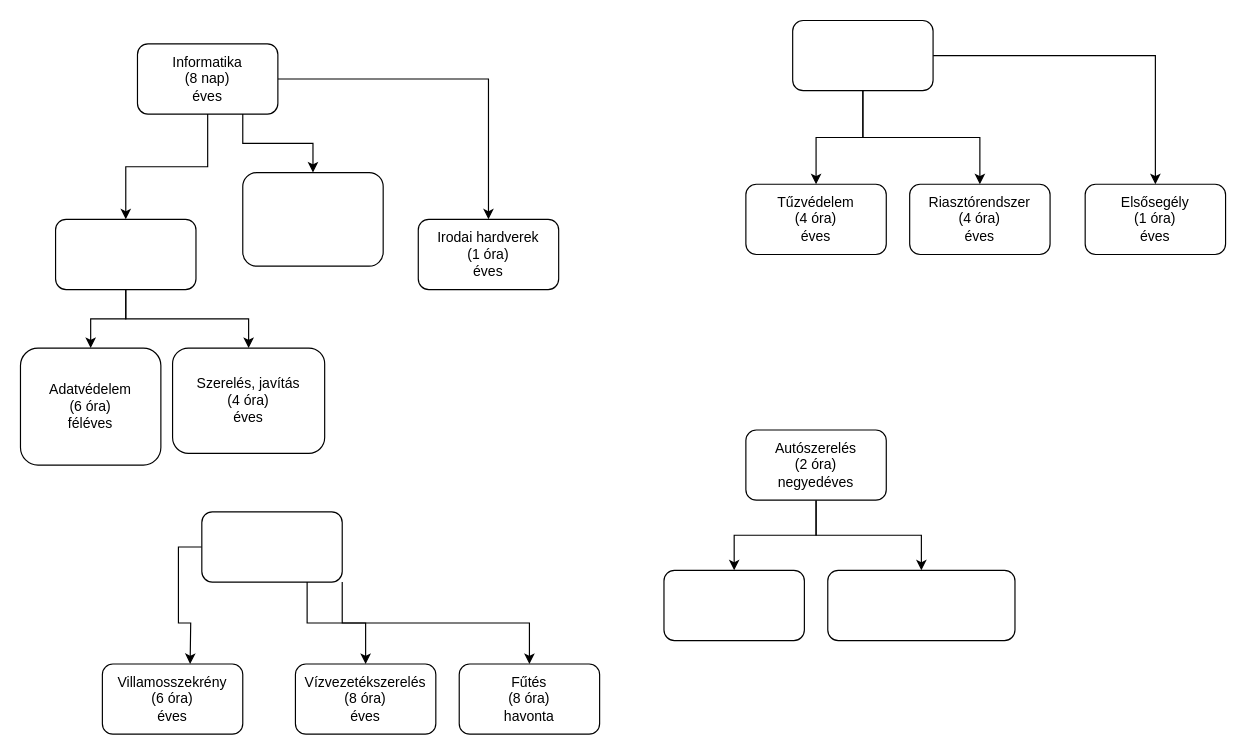
Some shapes in this 1246 by 755 pixel diagram are drawn without their labels. The centre of each missing label's shape, as x and y in pixels:
Biztonság (4 óra) éves: point 862,55
Céges laptopok Céges telefonok (1 óra) éves: point 312,218
Kamionok (2 óra) féléves: point 733,605
Közművek (8 óra) havonta: point 271,546
Személygépjárművek (1 óra) negyedéves: point 921,605
Szerverek éves: point 125,254
